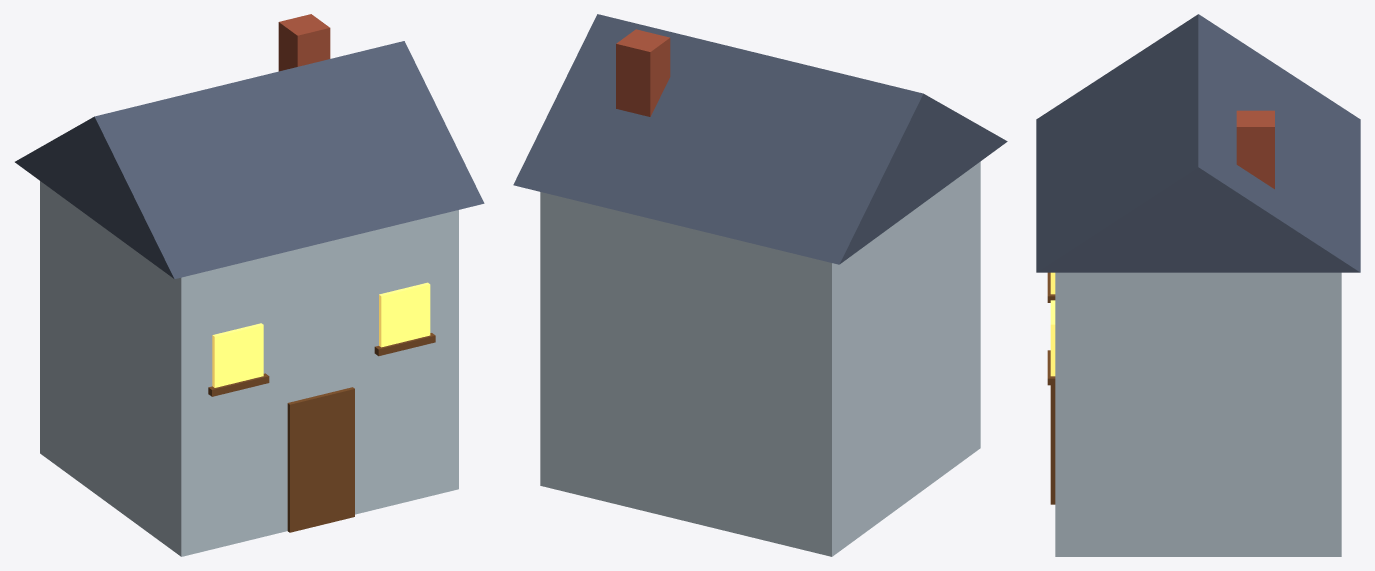
File: town_blue_house.glb
3 renders of one model, left to right at view 1: azimuth 30°, elevation 25°; view 2: azimuth 150°, elevation 25°; view 3: azimuth 270°, elevation 25°, orthographic. The views are drawn at different scales.
Parts seen in each view (by area): view 1: blue_house; view 2: blue_house; view 3: blue_house.
Part boxes in pixels (<box>): blue_house: <box>15,14,484,556</box>; blue_house: <box>513,14,1007,556</box>; blue_house: <box>1036,14,1360,556</box>.
Bounding box in the file's own units: 3.8 × 4.75 × 3.4.
